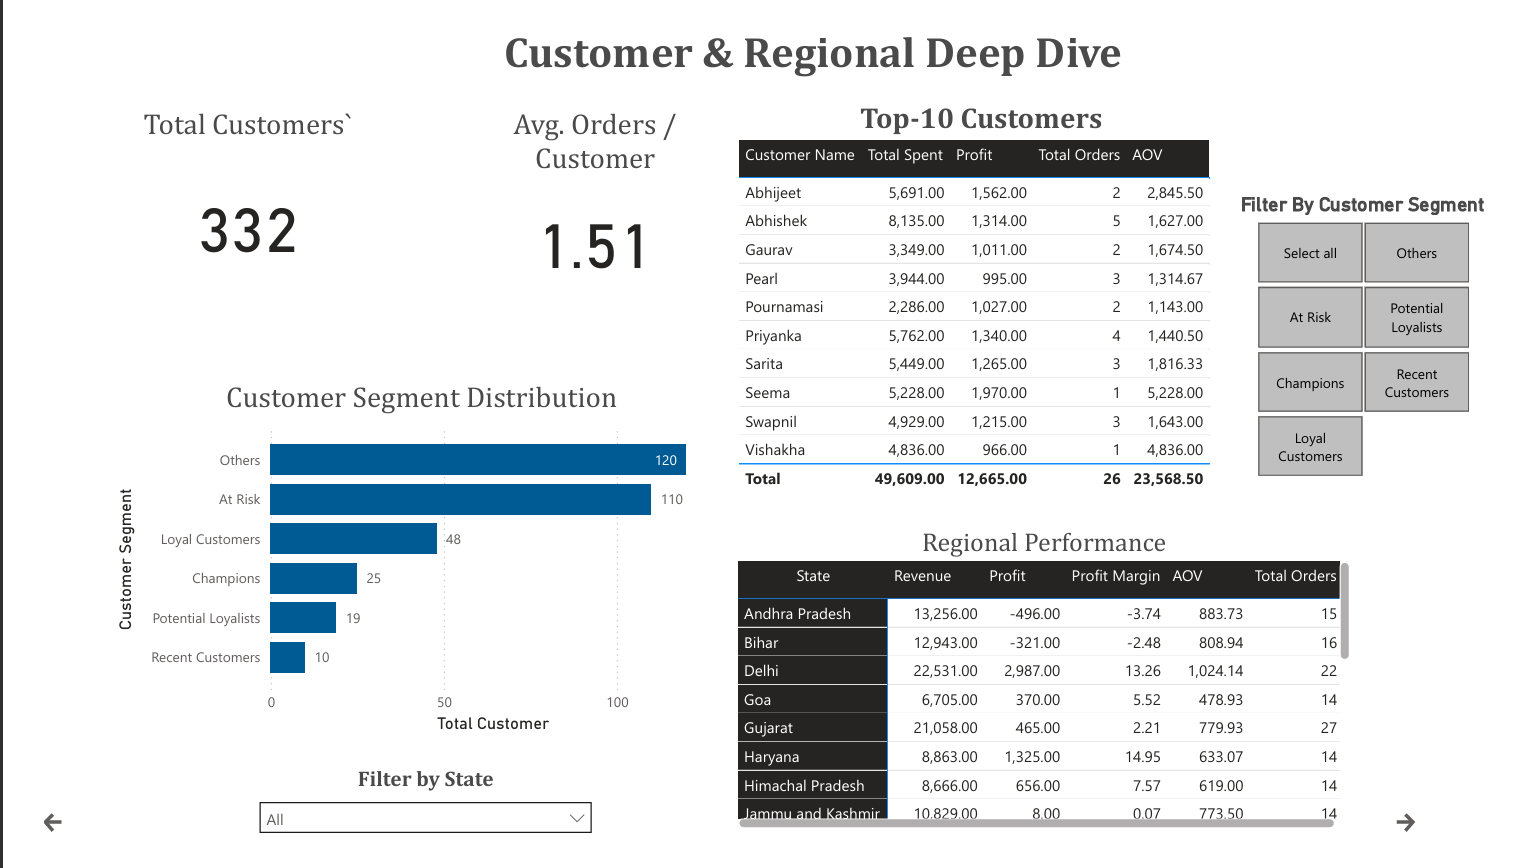

The dashboard page shown, as its layout file describes it:
{"tool":"powerbi","page":{"name":"Customer & Regional Deep Dive","canvas":[1280,720],"ordinal":1},"visuals":[{"type":"textbox","box":[240.1,0,878.2,60.4],"z":0},{"type":"card","title":"Total Customers`","fields":{"Values":["public kpi_overview.total_customers"]},"box":[70,74.3,240,171.4],"z":1000},{"type":"card","title":"Avg. Orders / Customer","fields":{"Values":["public kpi_overview.Avg Orders per Customer"]},"box":[372.9,74.3,240,171.4],"z":2000},{"type":"pivotTable","title":"Regional Performance","fields":{"Rows":["public regional_performance.state"],"Values":["public regional_performance.total_revenue","public regional_performance.total_profit","public regional_performance.profit_margin_percentage","public regional_performance.average_order_value","public regional_performance.total_orders"]},"box":[612.9,441.4,544.3,268.6],"z":3000},{"type":"barChart","title":"Customer Segment Distribution","fields":{"Category":["public rfm_analysis.customer_segment"],"Y":["public rfm_analysis.customer_name"]},"box":[70,312.9,542.9,312.9],"z":4000},{"type":"tableEx","title":"Top-10 Customers","fields":{"Values":["public customer_performance.customer_name","public customer_performance.total_spent","public customer_performance.total_profit","public customer_performance.total_orders","public customer_performance.average_order_value"]},"box":[612.9,68.6,434.3,352.9],"z":5000},{"type":"slicer","title":"Filter by State","fields":{"Values":["public regional_performance.state"]},"box":[190,650,310,60],"z":5001},{"type":"slicer","title":"Filter By Customer Segment","fields":{"Values":["public rfm_analysis.customer_segment"]},"box":[1045.7,150,234.3,254.3],"z":5002},{"type":"actionButton","box":[1180,680,100,40],"z":5003},{"type":"actionButton","box":[0,680,100,40],"z":5004}]}

Visuals, with their boxes in screenshot pixels (x1, y1, x2, y2), scaled from the page's 1280x720 canvas onto the 1522x868 screenshot:
textbox: l=285, t=0, r=1330, b=73
"Total Customers`" card: l=83, t=90, r=369, b=296
"Avg. Orders / Customer" card: l=443, t=90, r=729, b=296
"Regional Performance" pivotTable: l=729, t=532, r=1376, b=856
"Customer Segment Distribution" barChart: l=83, t=377, r=729, b=754
"Top-10 Customers" tableEx: l=729, t=83, r=1245, b=508
"Filter by State" slicer: l=226, t=784, r=595, b=856
"Filter By Customer Segment" slicer: l=1243, t=181, r=1521, b=487
actionButton: l=1403, t=820, r=1521, b=867
actionButton: l=0, t=820, r=119, b=867
